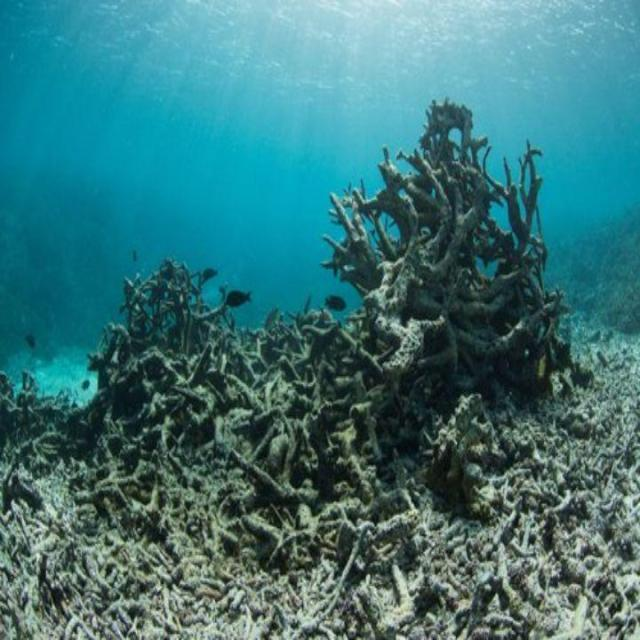Dead Coral: (0, 249, 633, 639), (317, 95, 563, 515), (59, 253, 311, 549)
